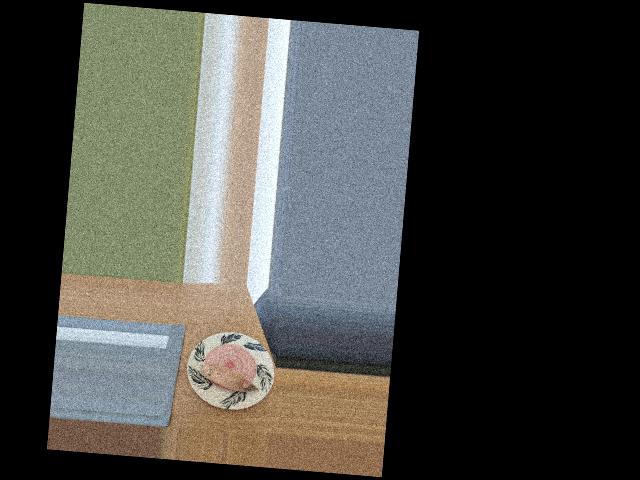sweet_potato: (199, 359, 255, 397)
